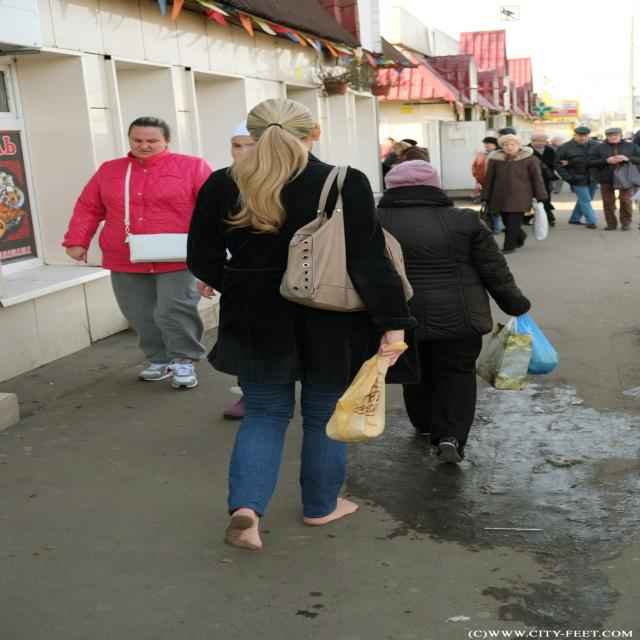No Safety Boots: (222, 508, 262, 550), (303, 496, 359, 525)
